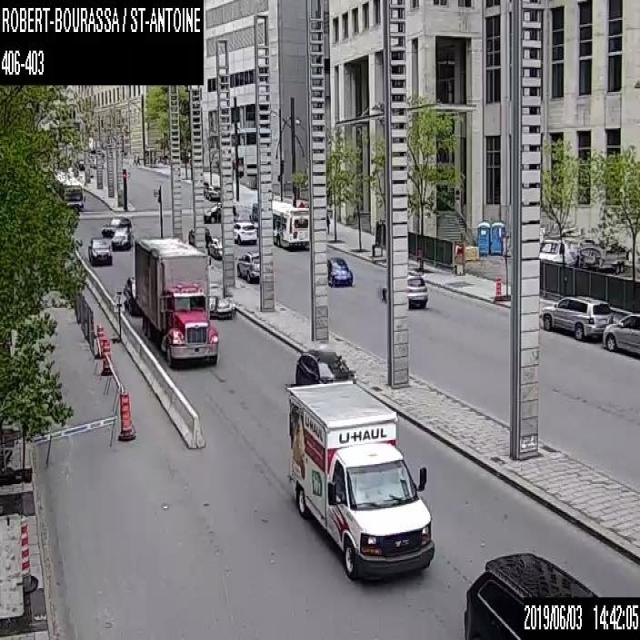bus: (271, 200, 309, 247), (56, 168, 84, 208)
construction: (0, 511, 24, 618), (19, 520, 39, 593), (118, 389, 135, 439), (98, 337, 115, 376), (97, 322, 104, 354), (494, 276, 502, 299)
vehicle: (287, 378, 435, 580), (462, 549, 601, 639), (133, 236, 218, 365), (541, 294, 612, 341), (295, 349, 355, 385), (602, 311, 639, 357), (382, 273, 429, 308), (326, 256, 352, 286), (123, 276, 142, 315), (210, 283, 231, 318), (203, 200, 236, 222), (236, 251, 259, 281), (88, 236, 112, 264), (101, 216, 131, 235), (233, 221, 257, 243), (111, 226, 133, 249), (188, 227, 210, 246), (208, 237, 222, 258), (203, 183, 221, 199)
